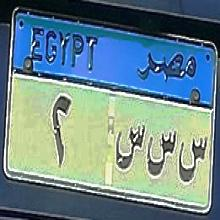2: (47, 90, 78, 170)
seen: (146, 123, 177, 186), (115, 116, 146, 179), (178, 130, 208, 189)
